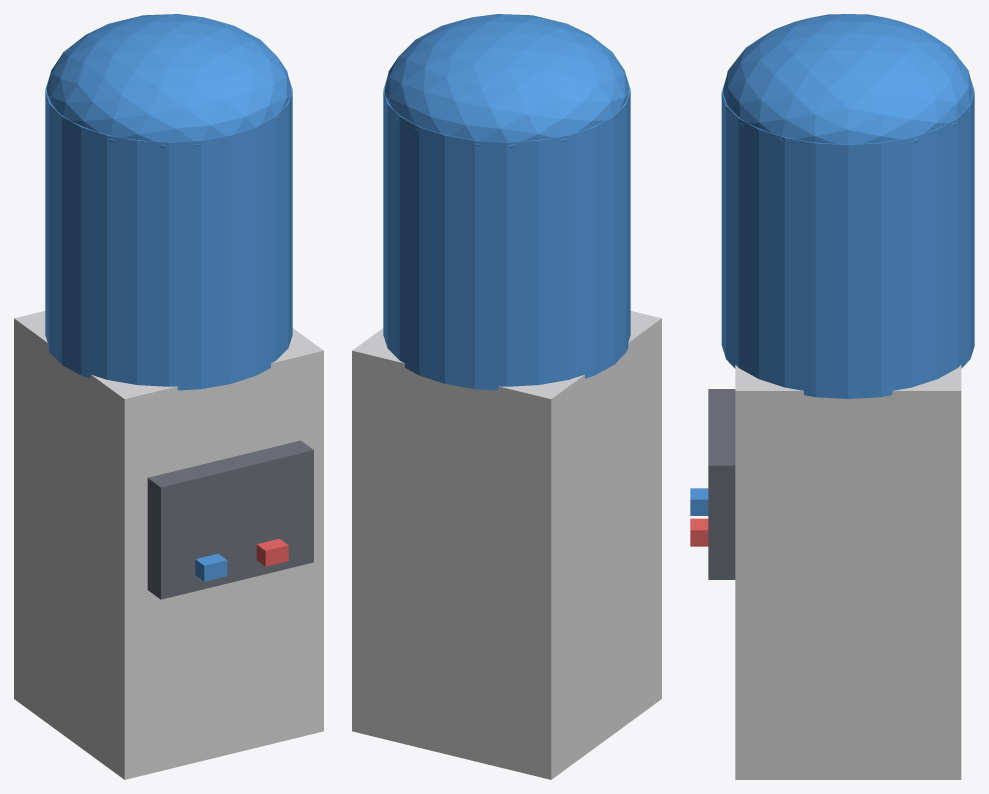
Rendered from 14_water_cooler.glb.
The picture shows the model from 3 angles, left to right: view 1: azimuth 30°, elevation 25°; view 2: azimuth 150°, elevation 25°; view 3: azimuth 270°, elevation 25°; orthographic projection. The views are drawn at different scales.
Parts seen in each view (by area): view 1: body, barrel_w; view 2: body, barrel_w; view 3: body, barrel_w.
Boxes of the visible parts, left/top/right/bottom form: body: left=14, top=311, right=323, bottom=779; barrel_w: left=45, top=14, right=292, bottom=390; body: left=352, top=311, right=661, bottom=779; barrel_w: left=383, top=14, right=630, bottom=390; body: left=690, top=365, right=961, bottom=779; barrel_w: left=721, top=14, right=974, bottom=398.
Size of the model in its own units: 0.56 by 1.7 by 0.63.
